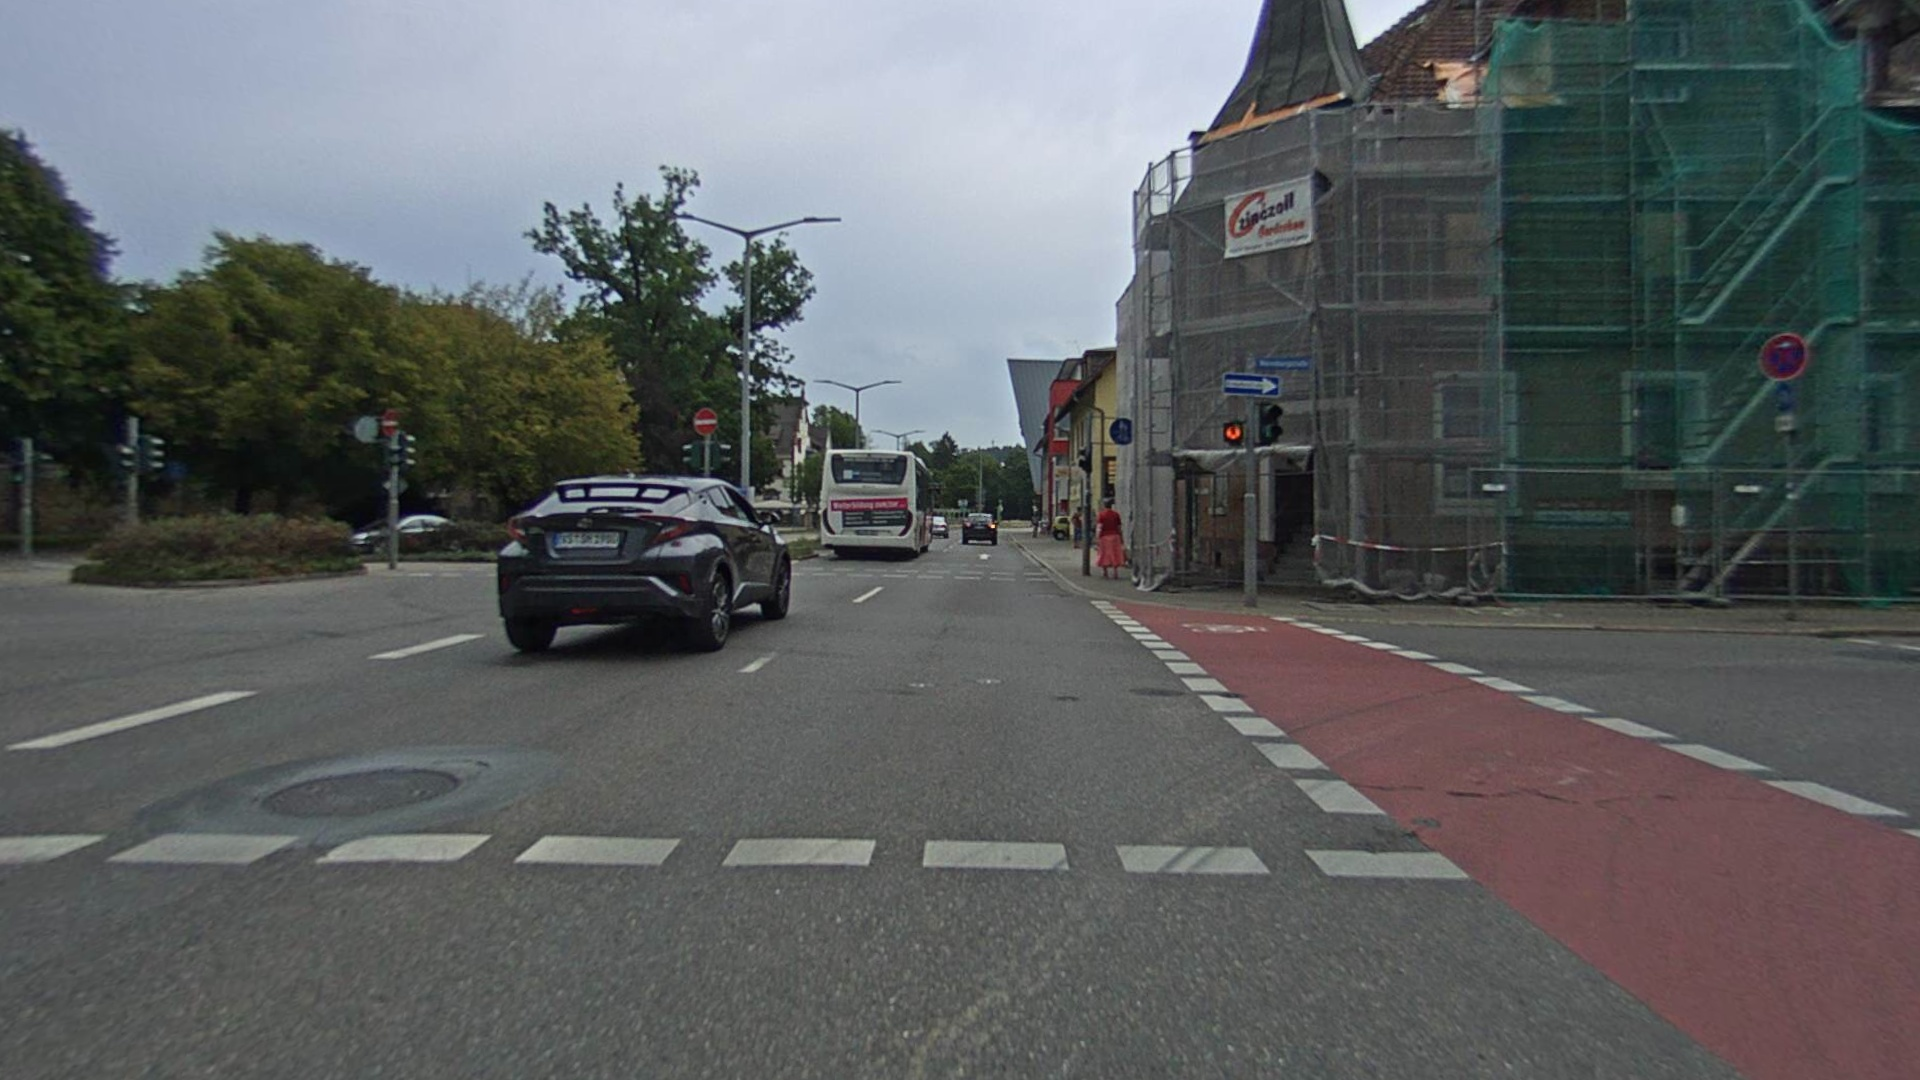bus: (820, 447, 938, 567)
car: (492, 471, 796, 659)
person: (1093, 499, 1131, 580)
